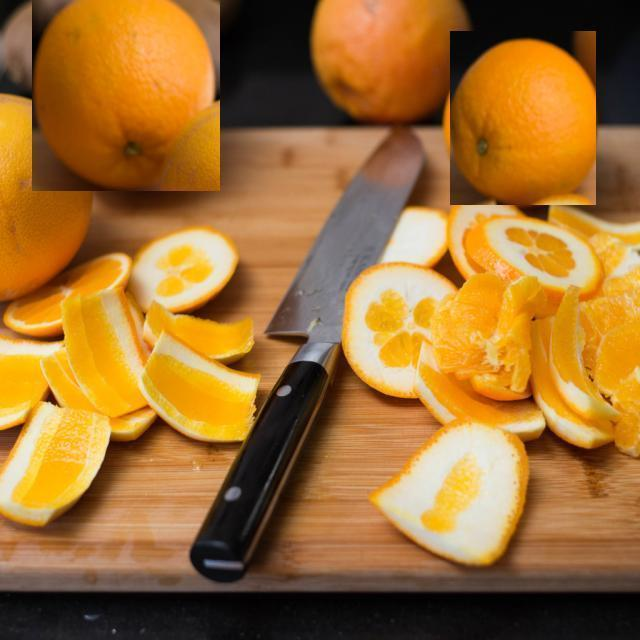Orange: (32, 0, 220, 191), (450, 31, 596, 205), (0, 92, 96, 306), (308, 0, 473, 121)
